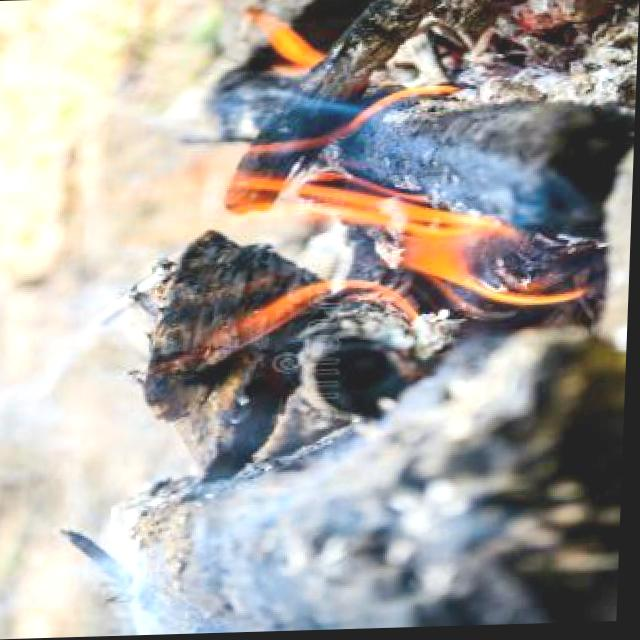Fire: (59, 2, 594, 360)
